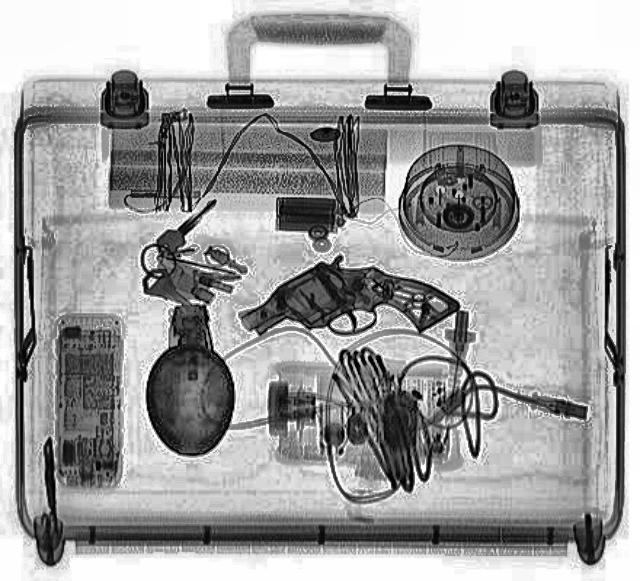Gun: (236, 253, 462, 335)
